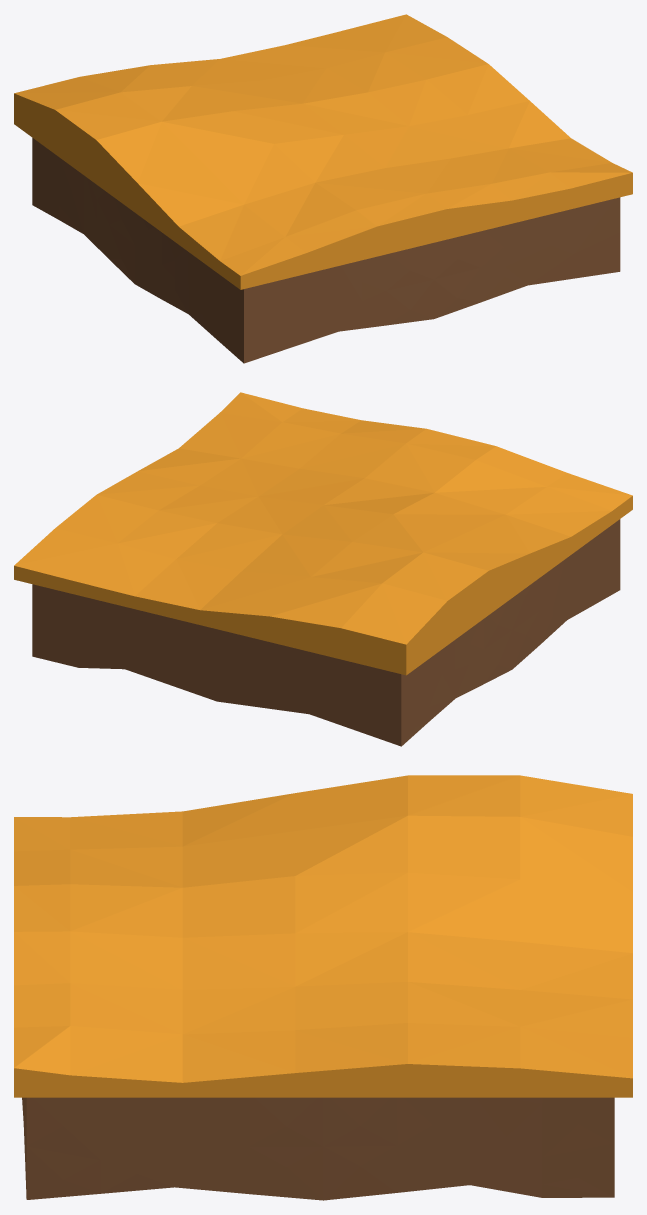
The model's file is terrains-world-desert.glb.
3 renders of one model, top to bottom at view 1: azimuth 30°, elevation 25°; view 2: azimuth 150°, elevation 25°; view 3: azimuth 270°, elevation 25°, orthographic. The views are drawn at different scales.
Parts seen in each view (by area): view 1: world-desert; view 2: world-desert; view 3: world-desert.
Part boxes in pixels (x1=…): world-desert: x1=14, y1=14, x2=632, y2=363; world-desert: x1=14, y1=392, x2=632, y2=746; world-desert: x1=14, y1=775, x2=632, y2=1200.
Bounding box in the file's own units: 20 × 6.12 × 20.
